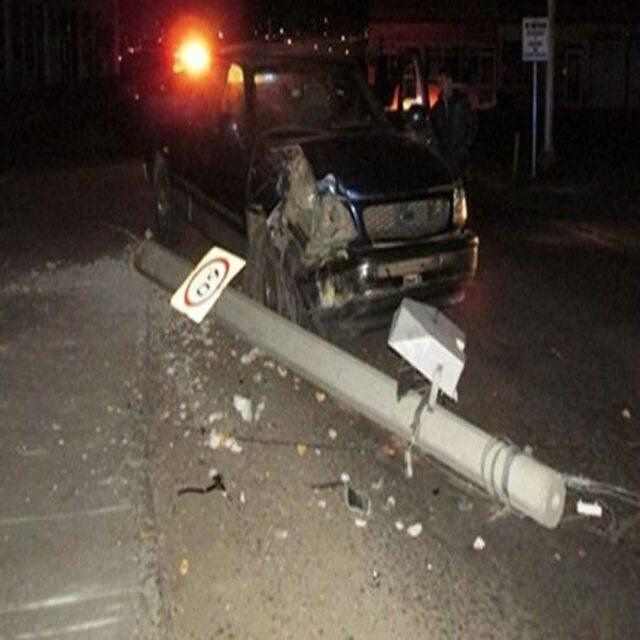Inclined Pole: (126, 228, 575, 532)
